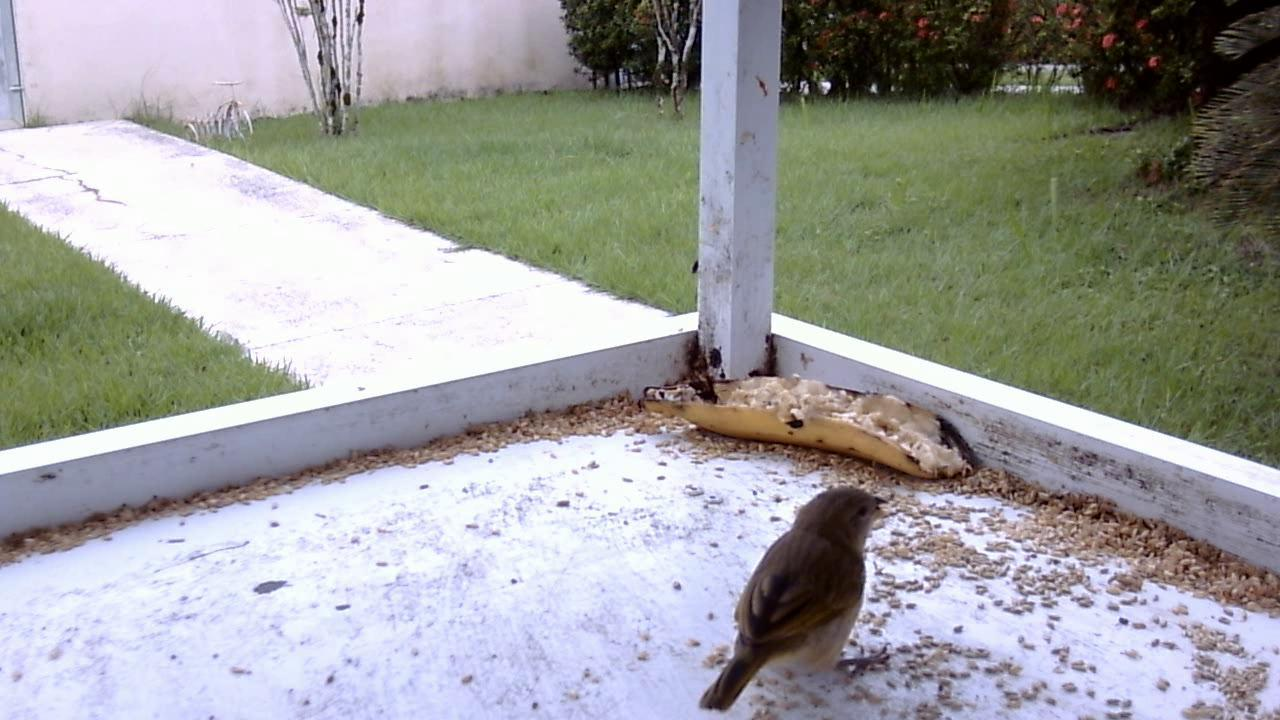canario_do_amazonas: (692, 482, 892, 712)
